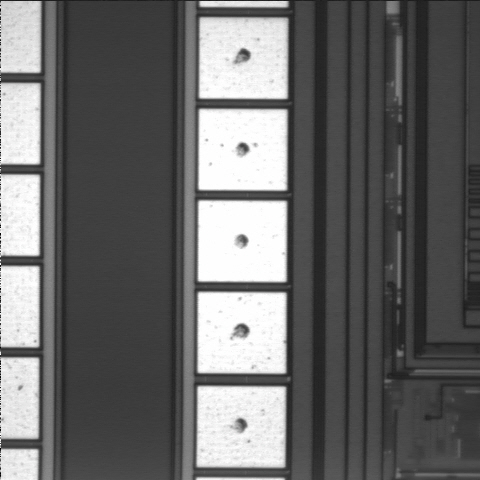pad: (198, 109, 287, 191), (198, 200, 287, 282), (199, 18, 288, 99), (197, 386, 286, 467), (198, 292, 286, 373)
